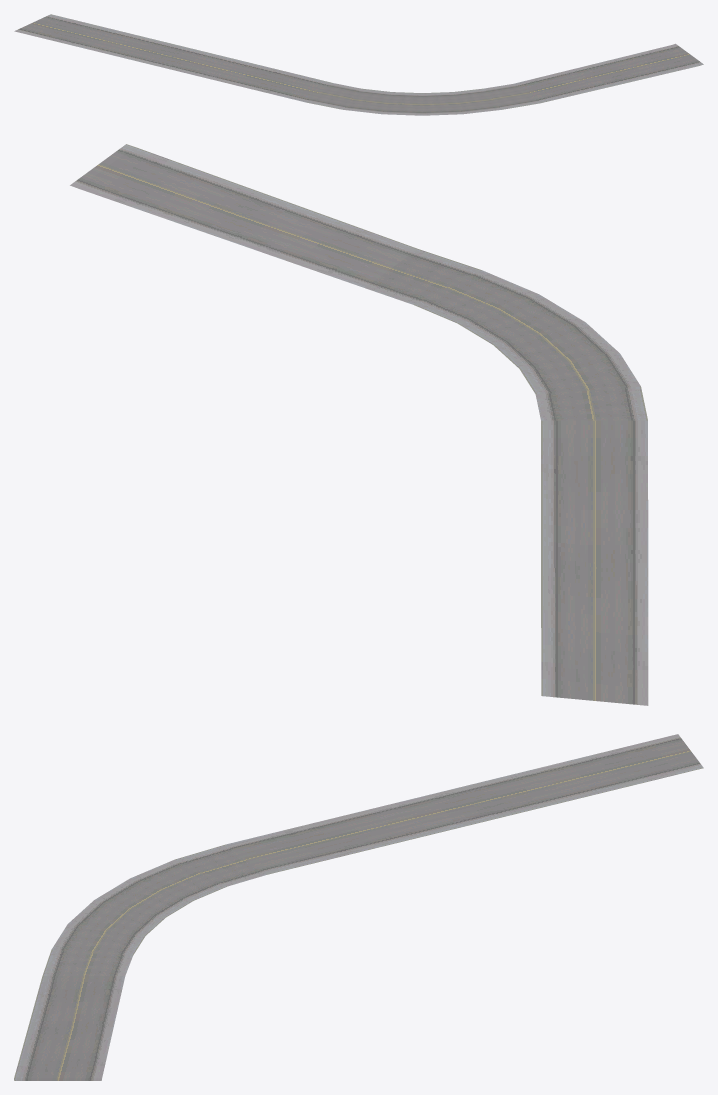
The model's file is lodagebuild03.obj.
3 views of the same model, one above another, from view 1: azimuth 30°, elevation 25°; view 2: azimuth 150°, elevation 25°; view 3: azimuth 270°, elevation 25° (orthographic). The views are drawn at different scales.
Parts seen in each view (by area): view 1: lodagebuild03; view 2: lodagebuild03; view 3: lodagebuild03.
Boxes of the visible parts, x1=… form: lodagebuild03: x1=14, y1=14, x2=703, y2=115; lodagebuild03: x1=70, y1=144, x2=648, y2=705; lodagebuild03: x1=14, y1=734, x2=703, y2=1080.
Bounding box in the file's own units: 128 × 2.02 × 104.
Materials: 1 (1 with a texture image).
